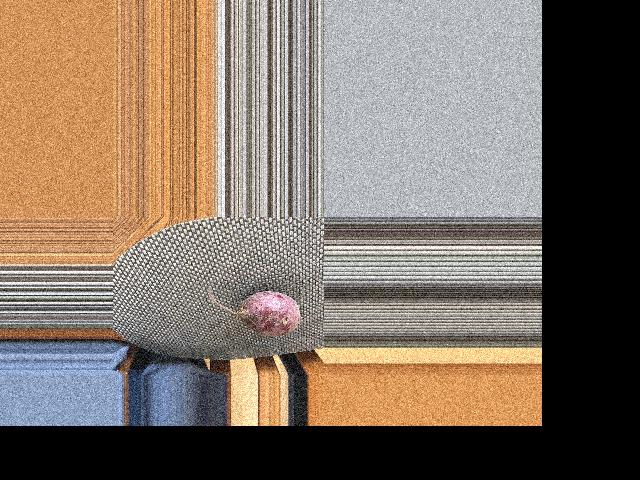beet: (207, 285, 299, 336)
